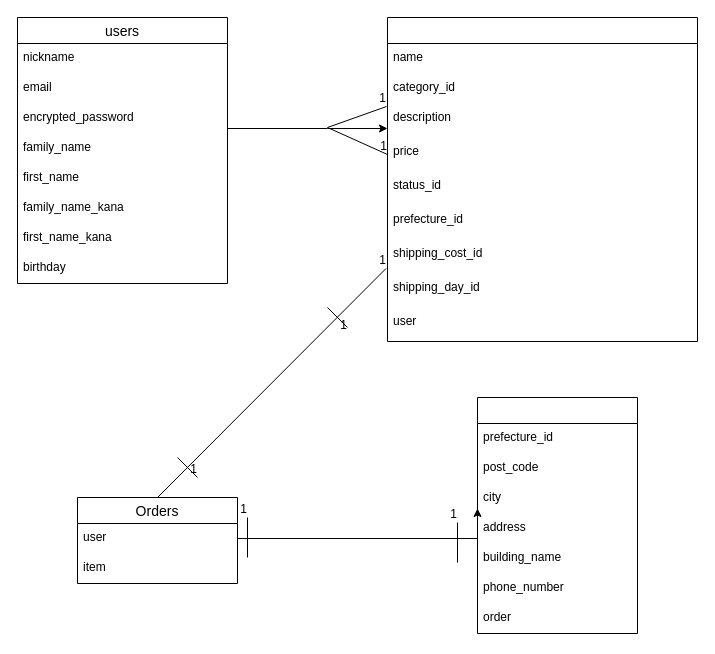
Image size: 715x654. Some labels were removed from this diagram. The shapes that lost their labels are listed below. From the top down, each one's box as (x1, y1, x2, y2) in pixels, then its label:
(386, 16, 698, 342): products
(476, 396, 638, 634): addresses
